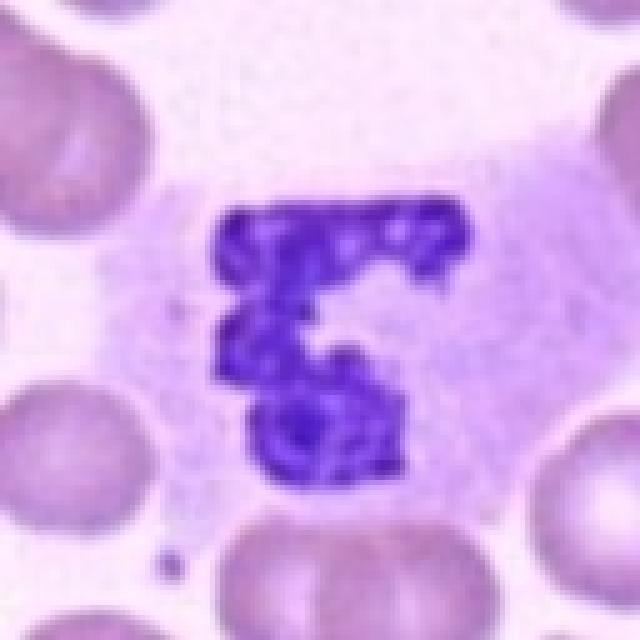neutro: (141, 105, 563, 532)
